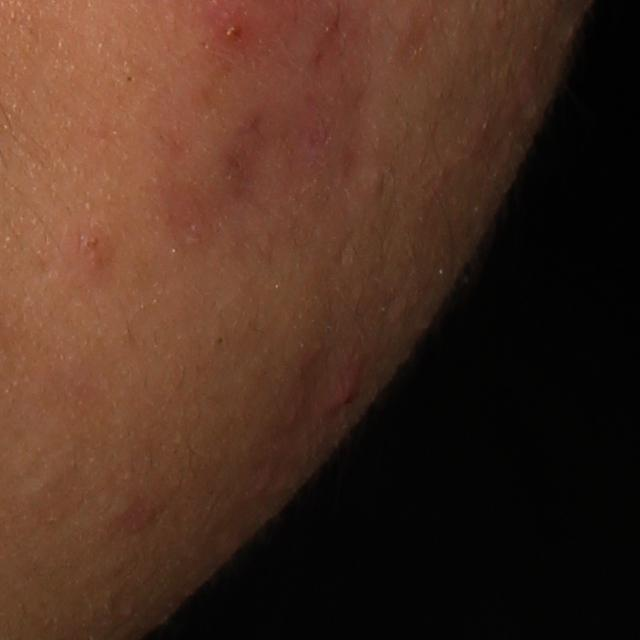papule: (220, 9, 260, 53)
